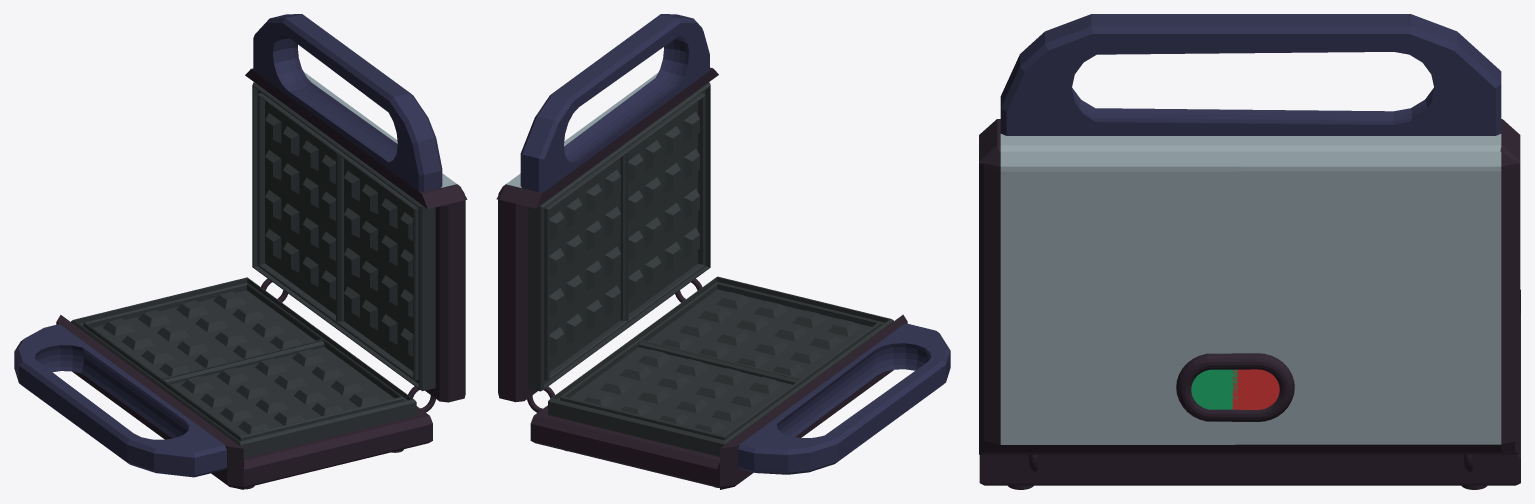
The model's file is Gofrownica.v1.fbx.
The picture shows the model from 3 angles, left to right: view 1: azimuth 30°, elevation 25°; view 2: azimuth 150°, elevation 25°; view 3: azimuth 270°, elevation 25°; orthographic projection. The views are drawn at different scales.
Parts seen in each view (by area): view 1: Gofrownica.v1; view 2: Gofrownica.v1; view 3: Gofrownica.v1.
Boxes of the visible parts, x1,y1,x2,y2 form: Gofrownica.v1: (14, 14, 467, 489); Gofrownica.v1: (496, 14, 950, 489); Gofrownica.v1: (979, 14, 1520, 489).
Bounding box in the file's own units: 206 × 207 × 209.
